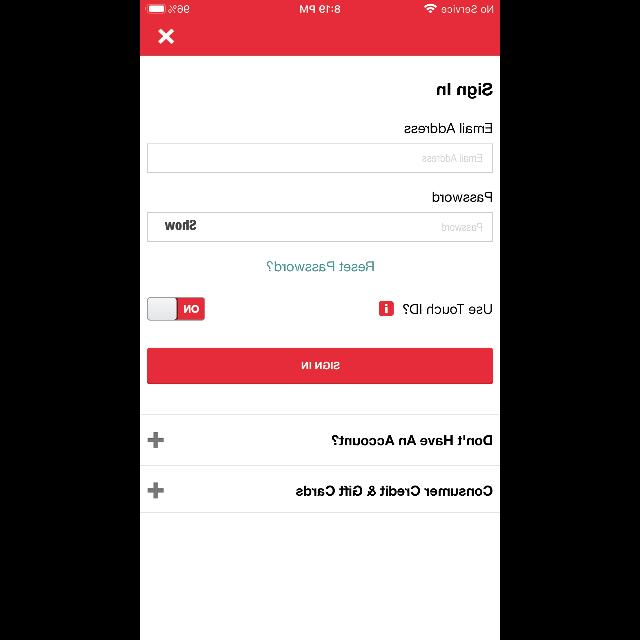icon: (158, 28, 175, 44), (148, 482, 164, 498), (148, 432, 164, 448), (379, 302, 393, 316)
input: (147, 212, 493, 242), (147, 144, 493, 172)
switch: (147, 298, 205, 320)
text: (296, 486, 492, 496), (332, 435, 492, 445), (266, 261, 374, 271), (437, 83, 493, 99), (403, 304, 491, 314), (404, 123, 492, 133), (432, 192, 492, 202), (422, 154, 482, 162), (442, 223, 482, 231), (166, 220, 197, 230)
textbutton: (147, 348, 493, 384)
uppertaskbar: (140, 0, 500, 14)
